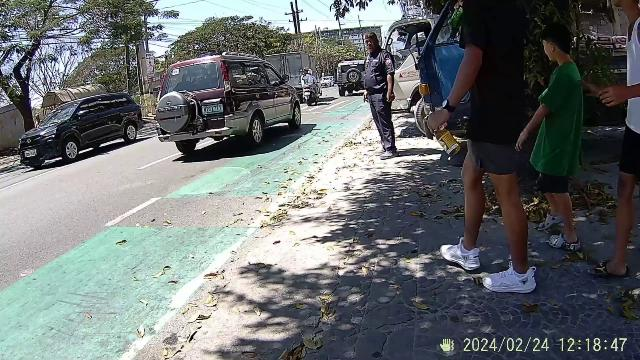car: (152, 48, 308, 154)
